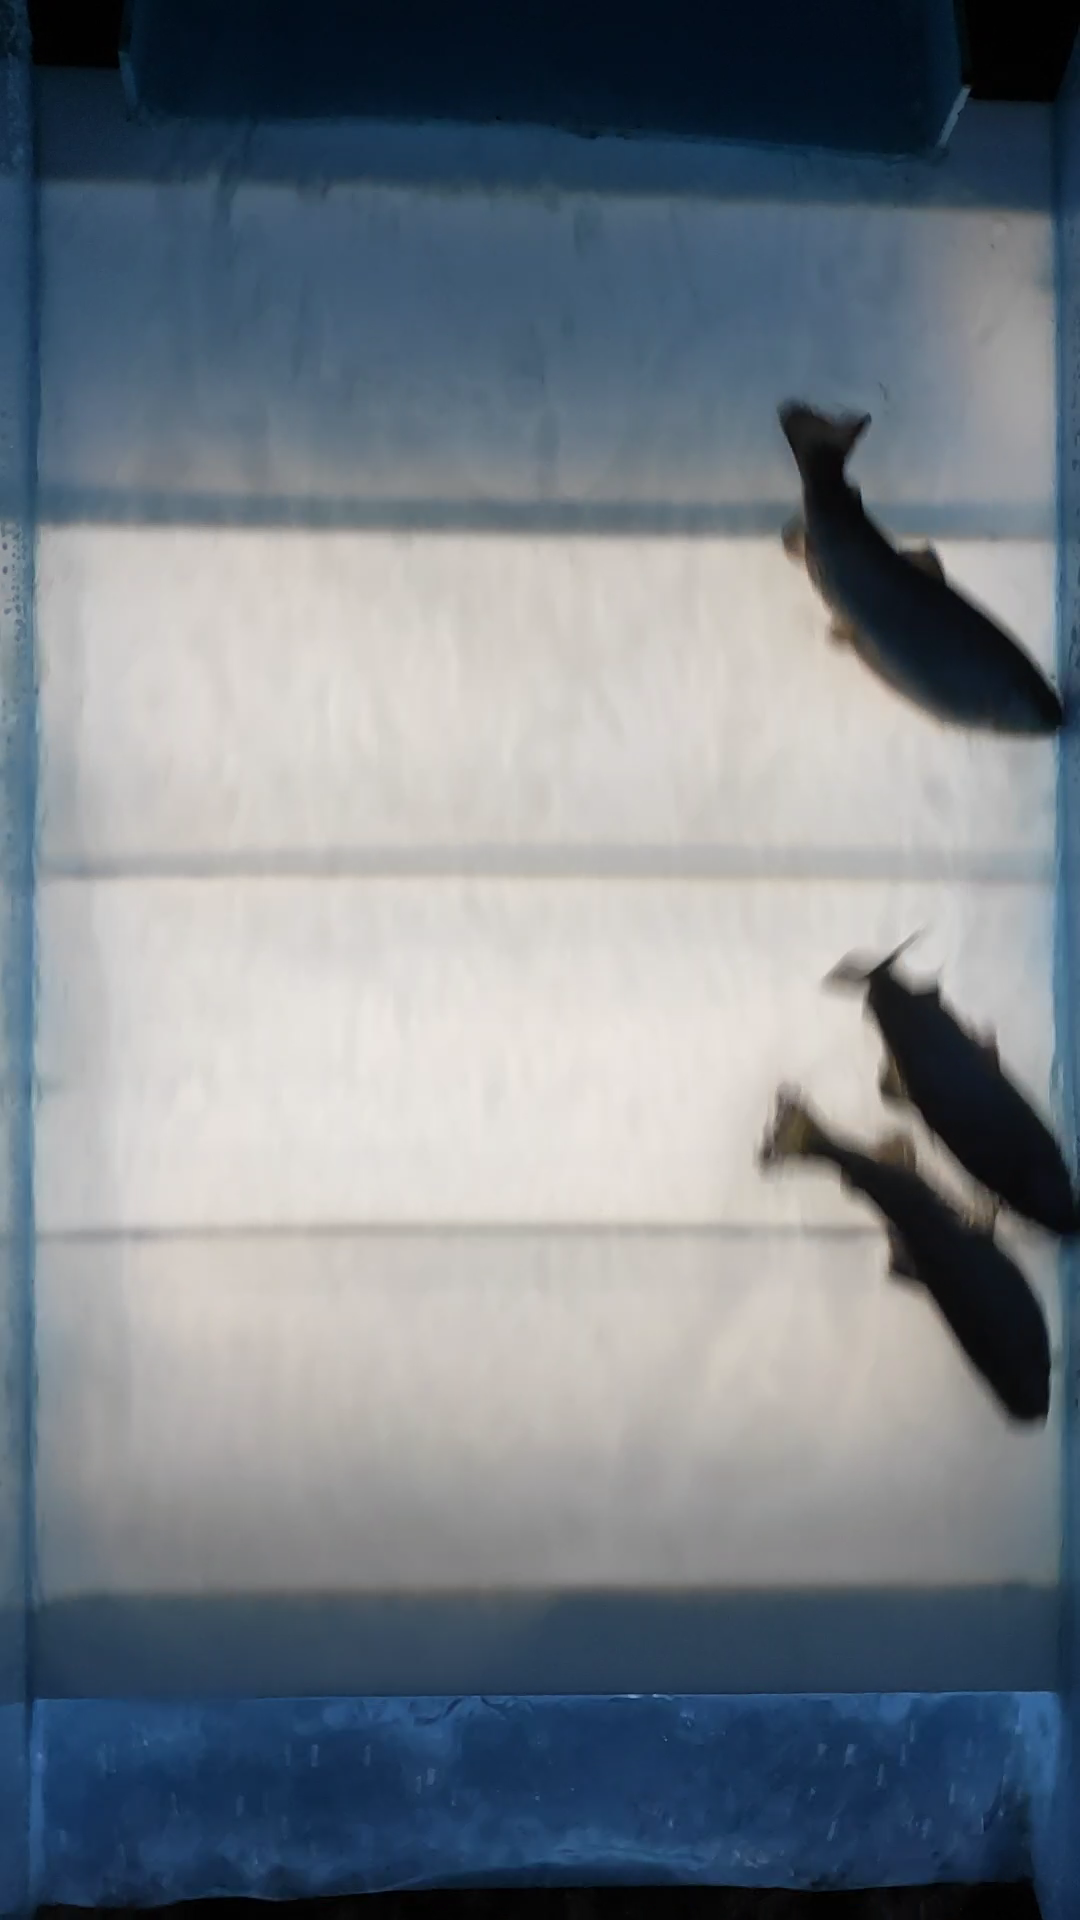fish: (754, 1077, 1051, 1433), (775, 389, 1063, 739), (816, 924, 1080, 1249)
